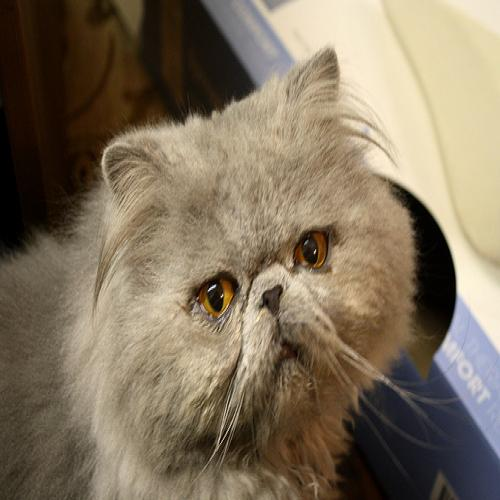persian: (88, 36, 435, 465)
